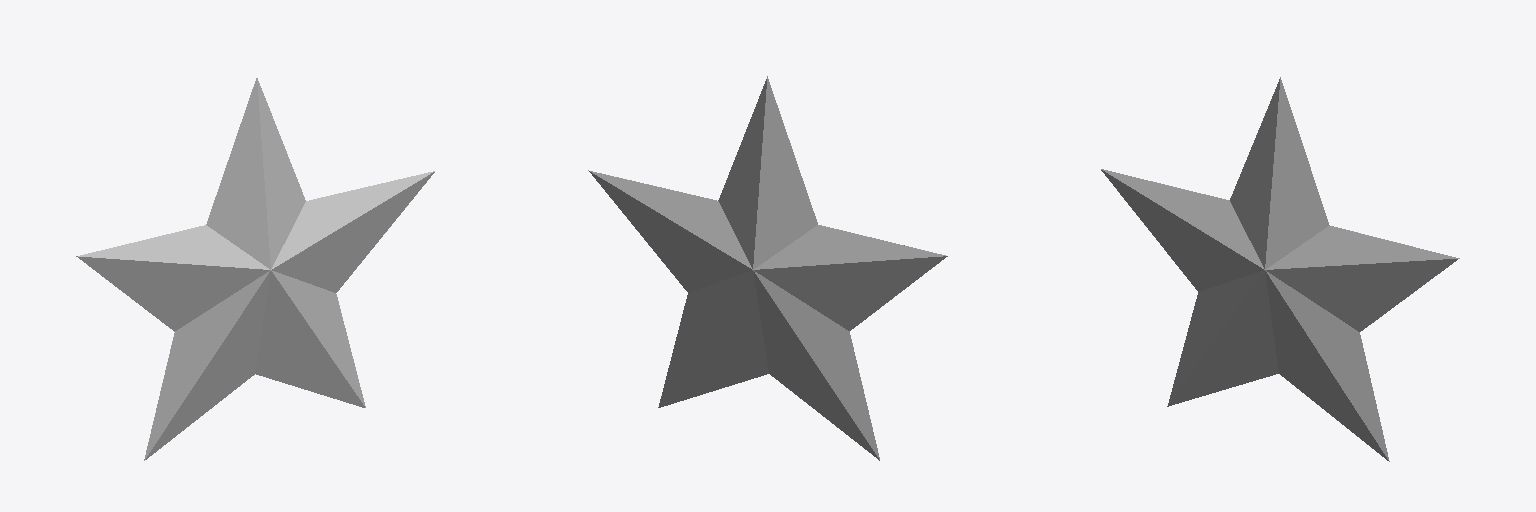
File: star.obj
3 views of the same model, side by side, from view 1: azimuth 30°, elevation 25°; view 2: azimuth 150°, elevation 25°; view 3: azimuth 330°, elevation 25° (orthographic).
Visible parts, largest first — view 1: estrellica; view 2: estrellica; view 3: estrellica.
Boxes of the visible parts, x1,y1,x2,y2 form: estrellica: [76, 78, 434, 460]; estrellica: [588, 76, 947, 460]; estrellica: [1101, 77, 1459, 461].
Size of the model in its own units: 1.68 by 1.6 by 0.243.